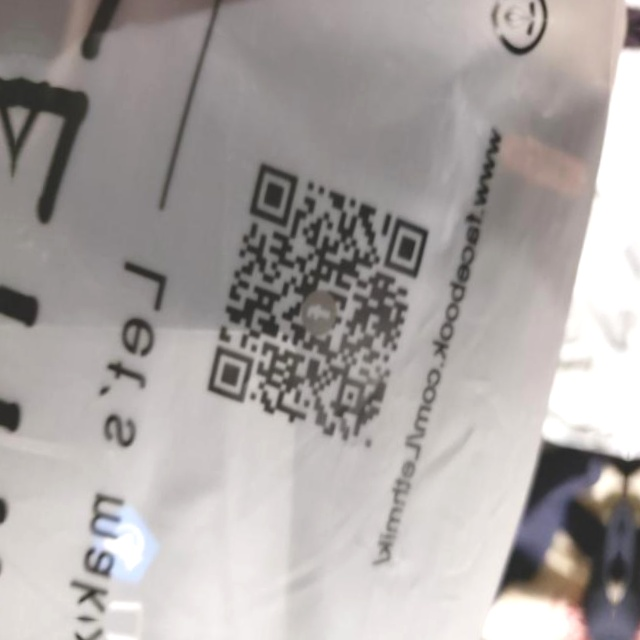qr-code: (183, 147, 443, 480)
